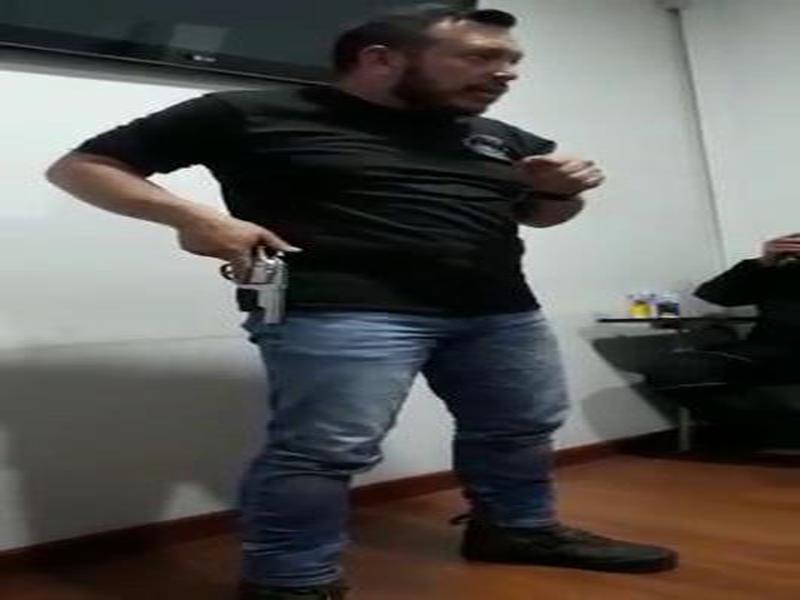Revolver: (224, 226, 306, 351)
